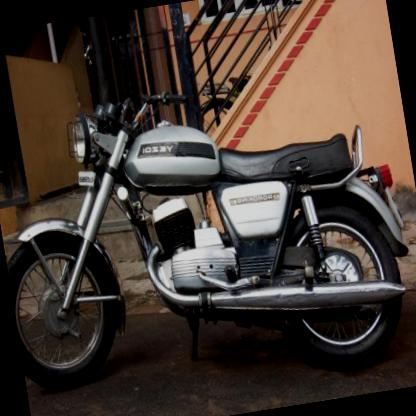motorcycle: (0, 57, 415, 415)
